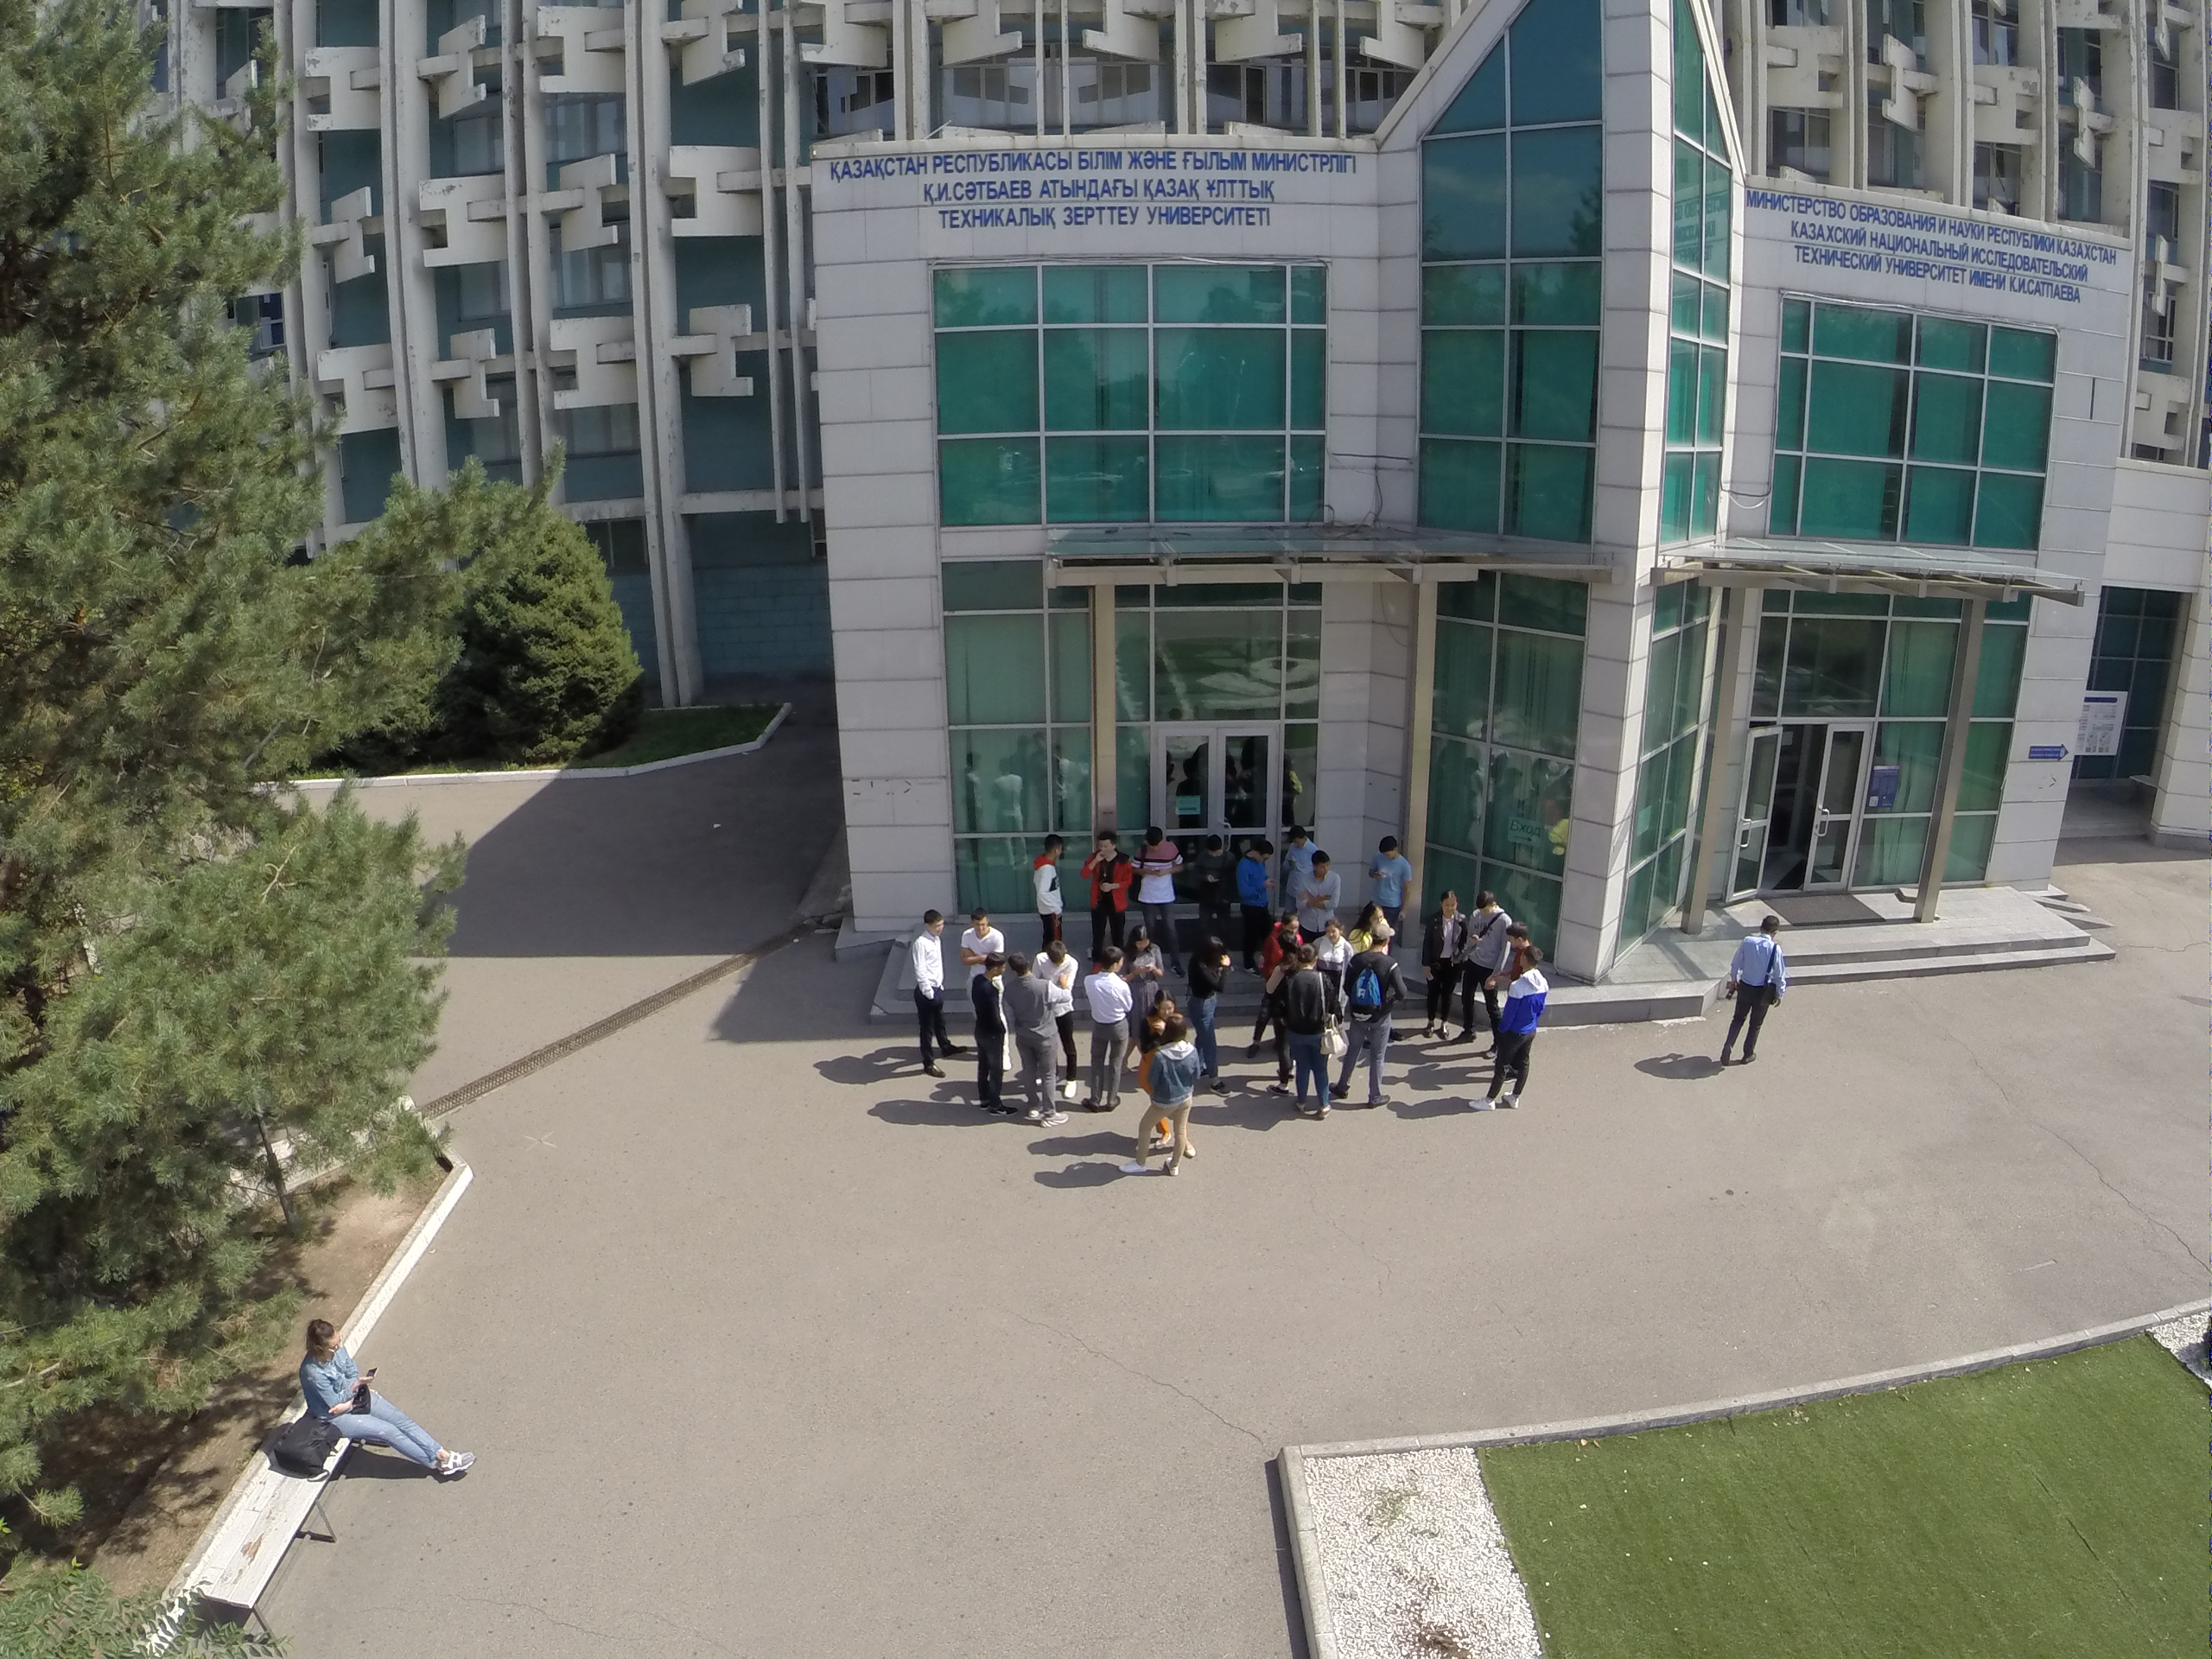person: (285, 1306, 488, 1508), (1478, 948, 1554, 1122), (1719, 908, 1792, 1077), (898, 911, 961, 1093), (1139, 1017, 1197, 1190), (1273, 945, 1329, 1122), (1013, 960, 1065, 1132), (1349, 922, 1395, 1109), (1181, 934, 1232, 1104), (1083, 936, 1129, 1116), (975, 952, 1020, 1109), (1467, 890, 1504, 1063), (1135, 838, 1186, 960), (1360, 833, 1420, 926), (1189, 832, 1239, 938), (1118, 924, 1171, 1018), (1428, 893, 1458, 1049), (1242, 839, 1278, 957), (1089, 845, 1129, 946), (1033, 843, 1071, 942), (1299, 851, 1344, 931), (1041, 941, 1082, 1022), (964, 908, 1005, 962), (1282, 828, 1310, 903)
